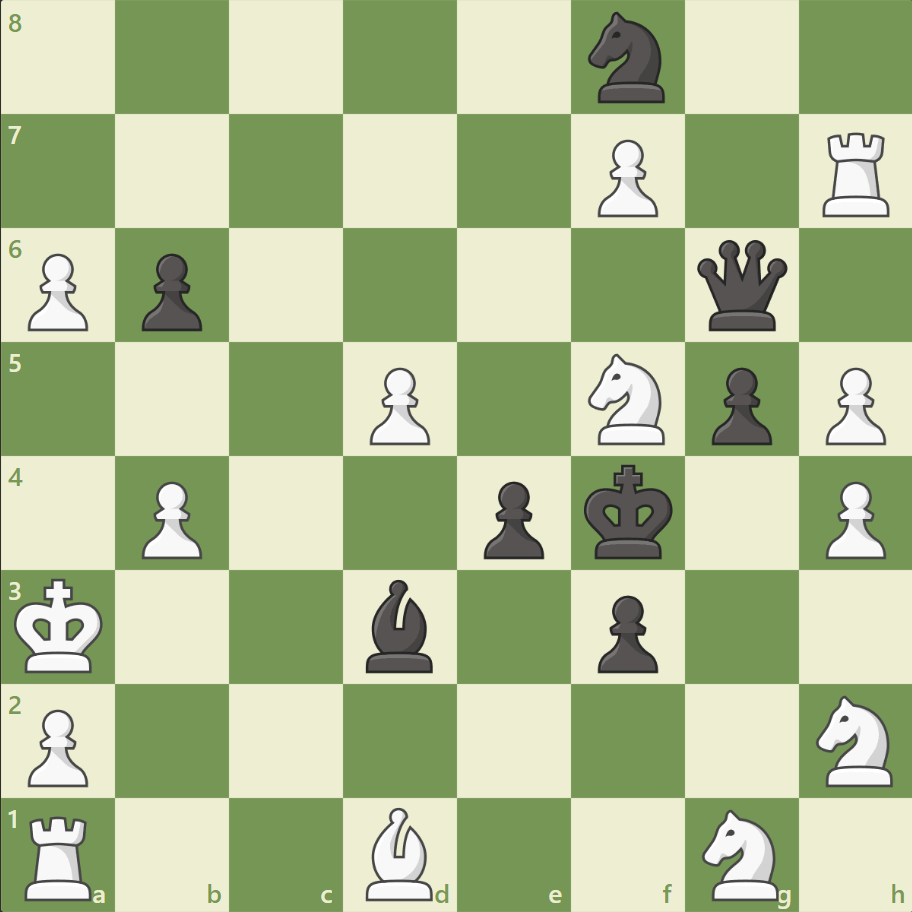B: (358, 801, 442, 904)
K: (11, 571, 111, 679)
N: (806, 688, 903, 791), (579, 348, 676, 450), (692, 802, 789, 904)
P: (20, 246, 95, 337), (133, 473, 208, 564), (20, 700, 95, 791), (588, 132, 662, 223), (361, 359, 435, 450), (815, 359, 889, 450), (815, 473, 889, 564)
R: (19, 806, 102, 904), (814, 125, 897, 222)
b: (358, 574, 442, 676)
k: (579, 458, 679, 566)
n: (579, 7, 676, 110)
p: (133, 246, 208, 337), (701, 359, 776, 450), (474, 473, 549, 564), (588, 586, 662, 677)
q: (691, 236, 790, 335)
